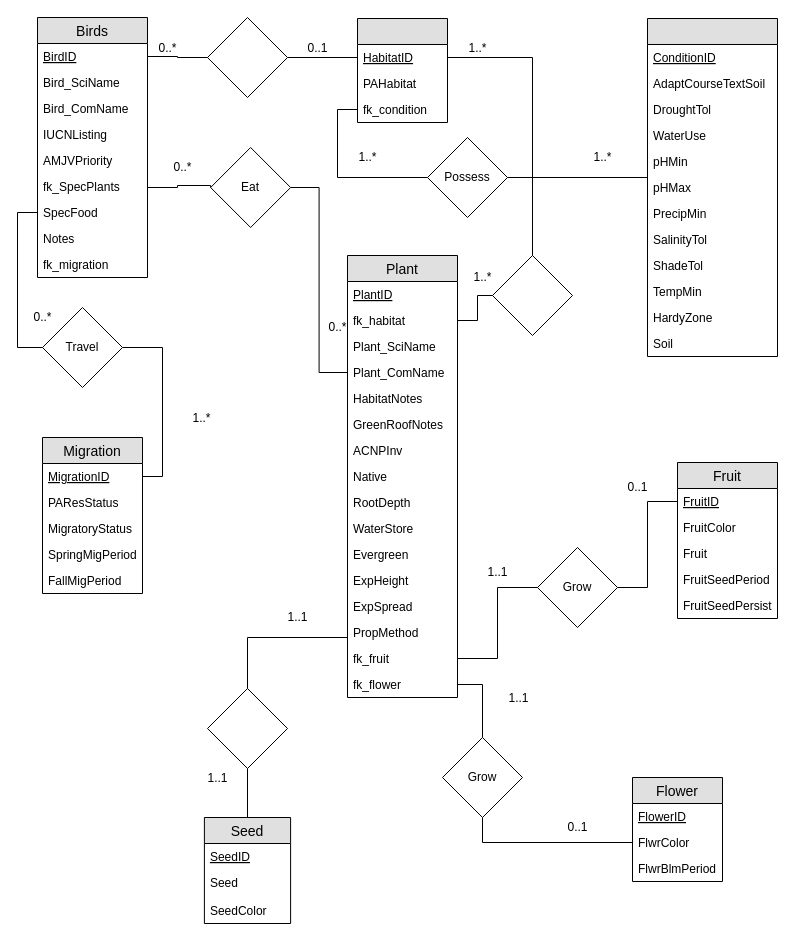
Image size: 795x944. Some labels were removed from this diagram. Each missing label, with the box of its shape:
Conditions: (646, 18, 778, 356)
Grows from: (206, 688, 288, 768)
Live: (206, 16, 288, 98)
PAHabitats: (356, 18, 448, 122)
Yield: (492, 254, 572, 336)
